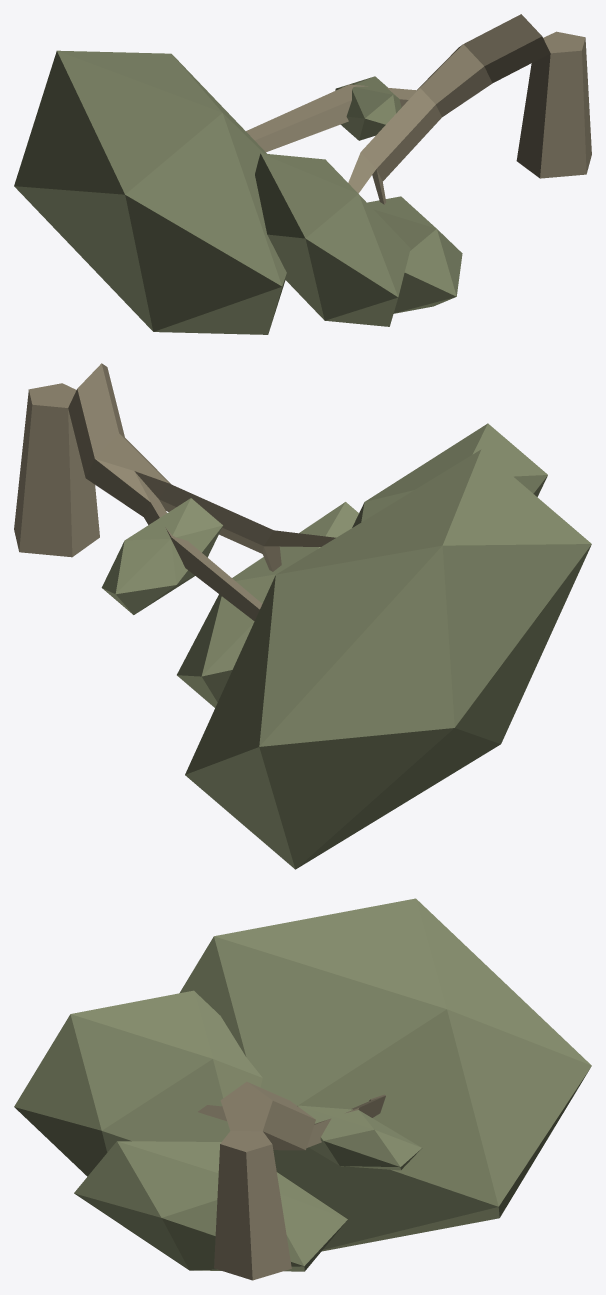
File: Oak2.fbx
3 views of the same model, one above another, from view 1: azimuth 30°, elevation 25°; view 2: azimuth 150°, elevation 25°; view 3: azimuth 270°, elevation 25° (orthographic). The views are drawn at different scales.
Visible parts, largest first — view 1: Oak2; view 2: Oak2; view 3: Oak2.
Part boxes in pixels (x1,y1,x2,y2): Oak2: (14,14,591,334); Oak2: (14,363,591,869); Oak2: (14,898,591,1280).
Bounding box in the file's own units: 13.86 × 7.74 × 14.12.
